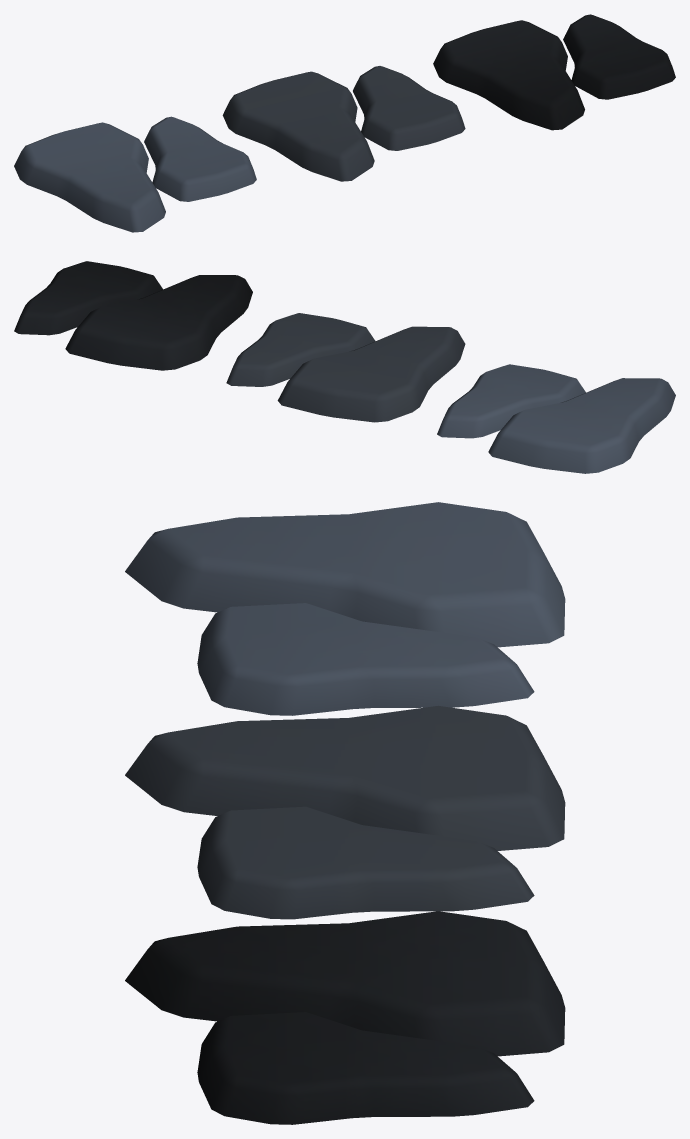
File: stone.fbx
3 views of the same model, one above another, from view 1: azimuth 30°, elevation 25°; view 2: azimuth 150°, elevation 25°; view 3: azimuth 270°, elevation 25° (orthographic). The views are drawn at different scales.
Visible parts, largest first — view 1: Stone_1, Stone_1.002, Stone_1.001; view 2: Stone_1, Stone_1.001, Stone_1.002; view 3: Stone_1.001, Stone_1.002, Stone_1.
Boxes of the visible parts, left/top/right/bottom form: Stone_1: left=14, top=116, right=256, bottom=232; Stone_1.002: left=433, top=14, right=675, bottom=130; Stone_1.001: left=222, top=66, right=465, bottom=181; Stone_1: left=437, top=364, right=675, bottom=473; Stone_1.001: left=226, top=313, right=465, bottom=422; Stone_1.002: left=14, top=261, right=252, bottom=370; Stone_1.001: left=125, top=705, right=565, bottom=919; Stone_1.002: left=125, top=911, right=565, bottom=1124; Stone_1: left=125, top=502, right=565, bottom=715.
Size of the model in its own units: 244 by 8.26 by 77.01.
1 material, 1 textured.
